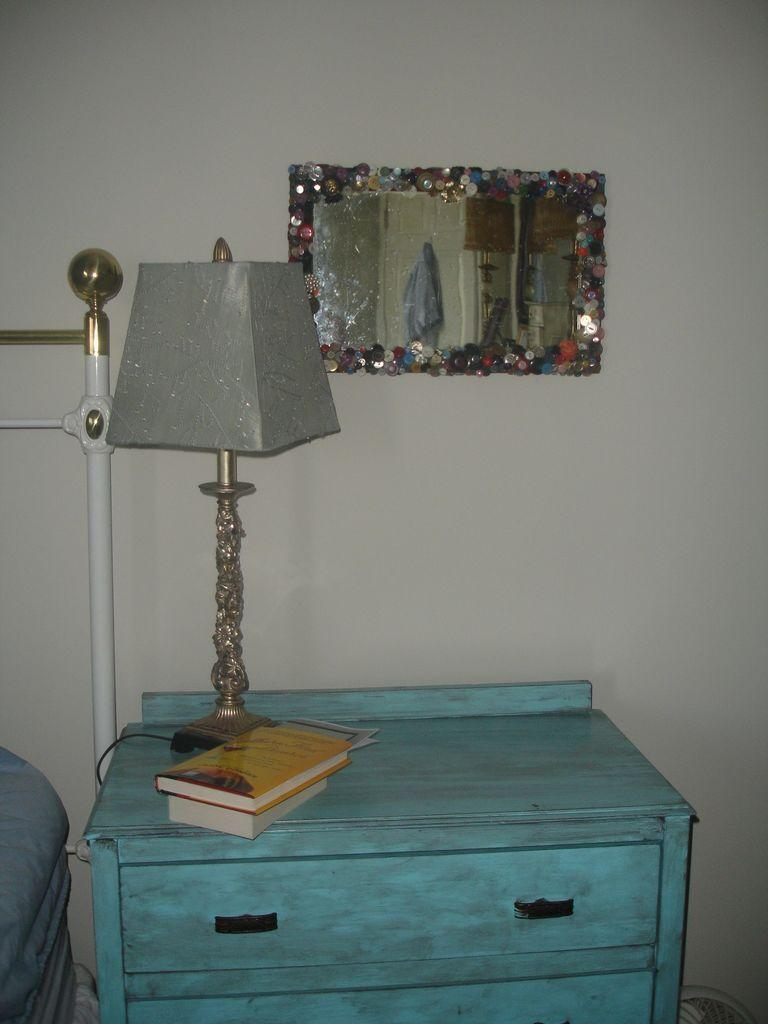cabinet_door: (127, 868, 662, 942), (131, 996, 653, 1024)
handle: (210, 903, 280, 950), (512, 898, 576, 930)
